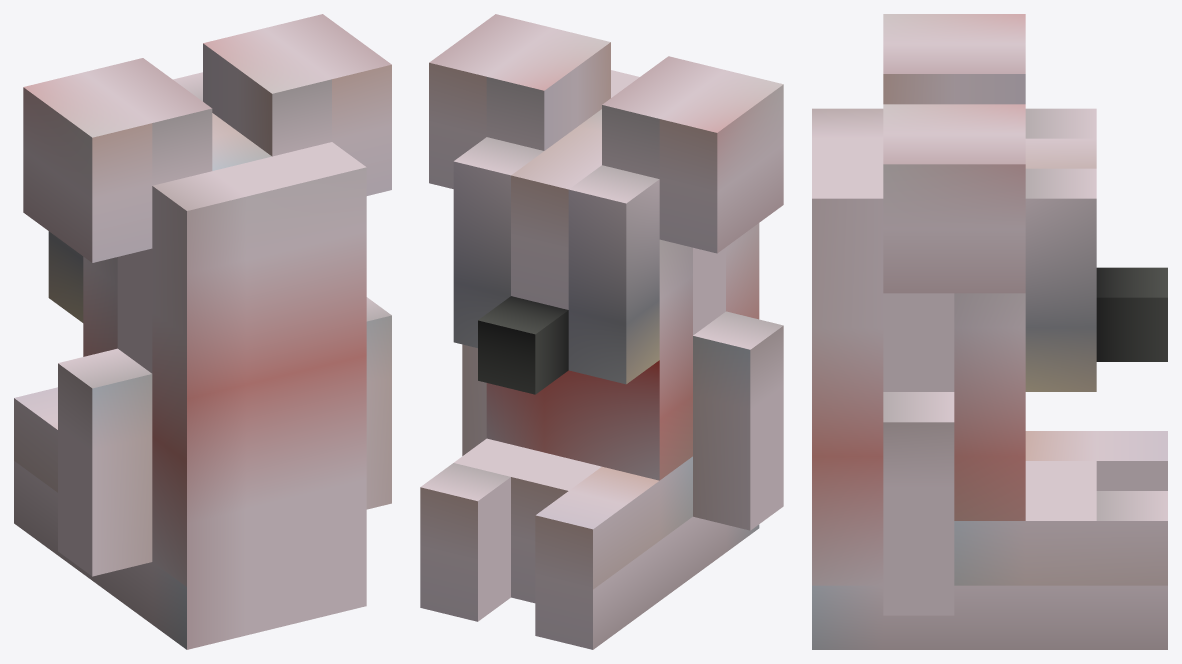
File: PlushPink_01.obj
3 views of the same model, side by side, from view 1: azimuth 30°, elevation 25°; view 2: azimuth 150°, elevation 25°; view 3: azimuth 270°, elevation 25° (orthographic). The views are drawn at different scales.
Parts seen in each view (by area): view 1: PlushPink_01; view 2: PlushPink_01; view 3: PlushPink_01.
Boxes of the visible parts, left/top/right/bottom form: PlushPink_01: left=14, top=14, right=391, bottom=649; PlushPink_01: left=420, top=14, right=783, bottom=649; PlushPink_01: left=812, top=14, right=1167, bottom=649.
Bounding box in the file's own units: 0.25 × 0.4 × 0.25.
